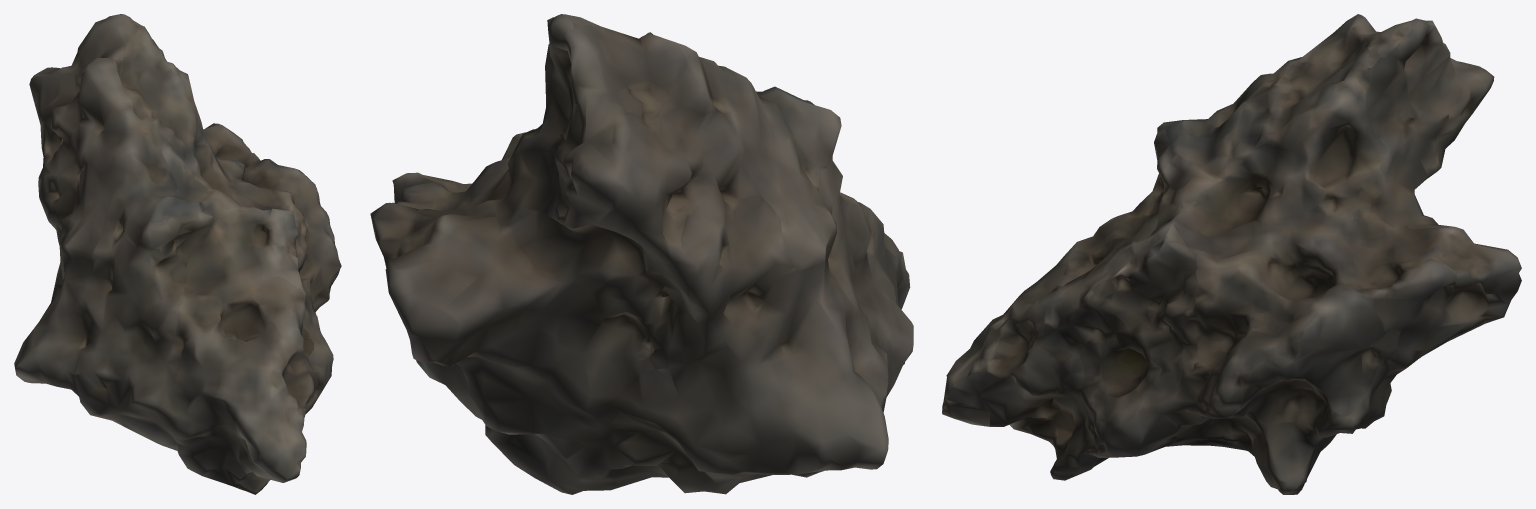
The model's file is asteroid_uncommon_4_lod1.glb.
The picture shows the model from 3 angles, left to right: view 1: azimuth 30°, elevation 25°; view 2: azimuth 150°, elevation 25°; view 3: azimuth 270°, elevation 25°; orthographic projection. The views are drawn at different scales.
Visible parts, largest first — view 1: model; view 2: model; view 3: model.
Part boxes in pixels (box(x1,y1,x2,y2)): model: box(14, 14, 341, 494); model: box(370, 14, 913, 494); model: box(942, 14, 1521, 494).
Bounding box in the file's own units: 1.46 × 1.67 × 1.89.
Materials: 1 (1 with a texture image).
